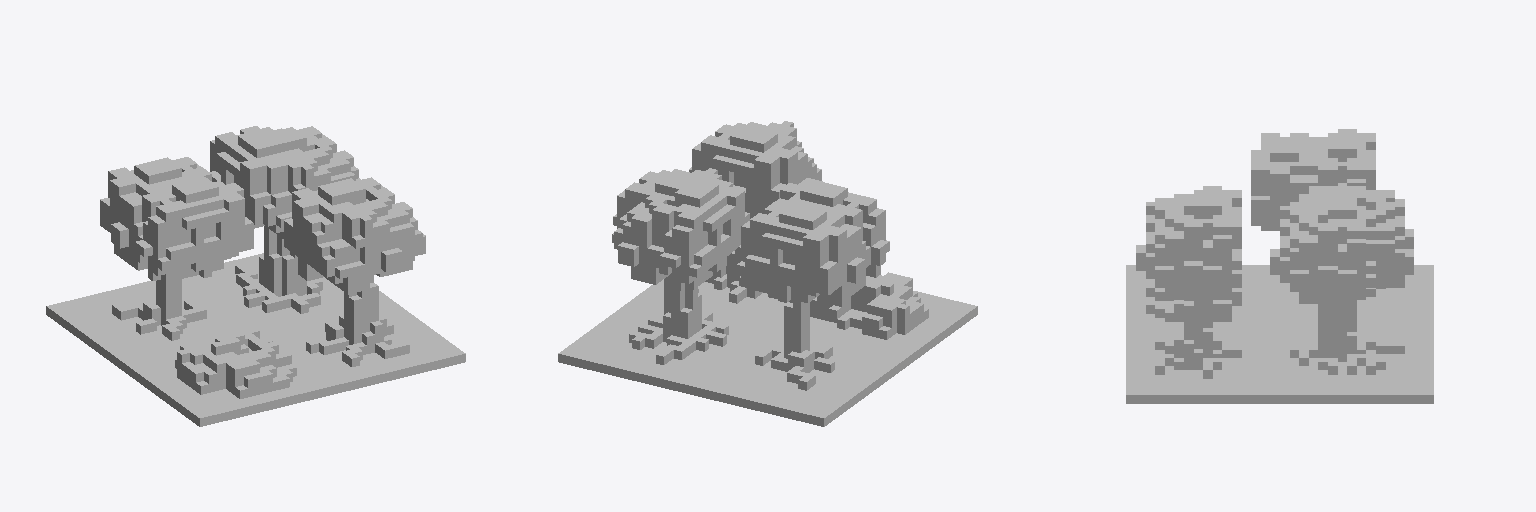
File: trees.obj
The picture shows the model from 3 angles: view 1: azimuth 30°, elevation 25°; view 2: azimuth 150°, elevation 25°; view 3: azimuth 270°, elevation 25°; orthographic projection.
Parts seen in each view (by area): view 1: object 1; view 2: object 1; view 3: object 1.
Boxes of the visible parts, <box> form: object 1: <box>46,126,465,426</box>; object 1: <box>558,121,977,426</box>; object 1: <box>1126,129,1433,403</box>.
Bounding box in the file's own units: 3.2 × 1.9 × 3.2.